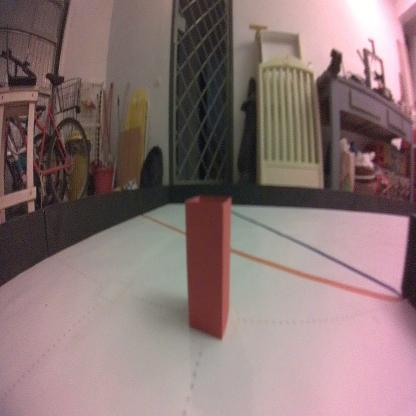red: (185, 191, 233, 339)
